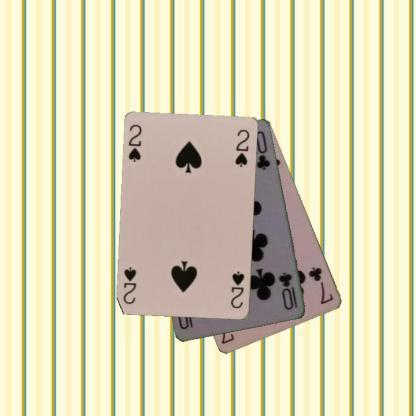10c: (276, 270, 299, 312)
2s: (228, 268, 246, 310), (126, 122, 144, 164)
7c: (306, 264, 335, 306)
